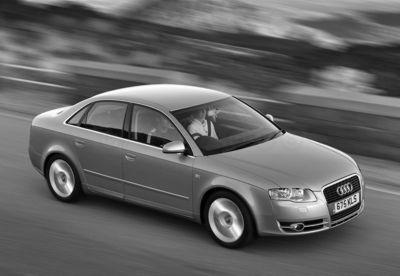car: (29, 84, 367, 251)
